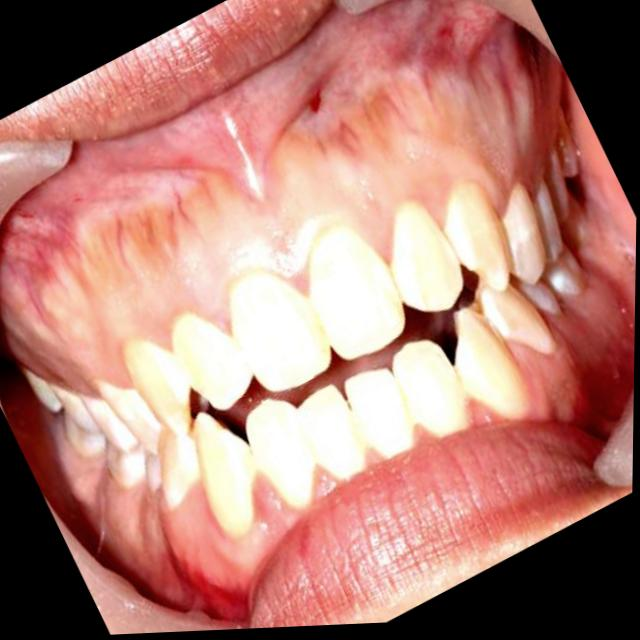gingivitis: (10, 43, 532, 392), (136, 476, 308, 607), (509, 306, 607, 418)
